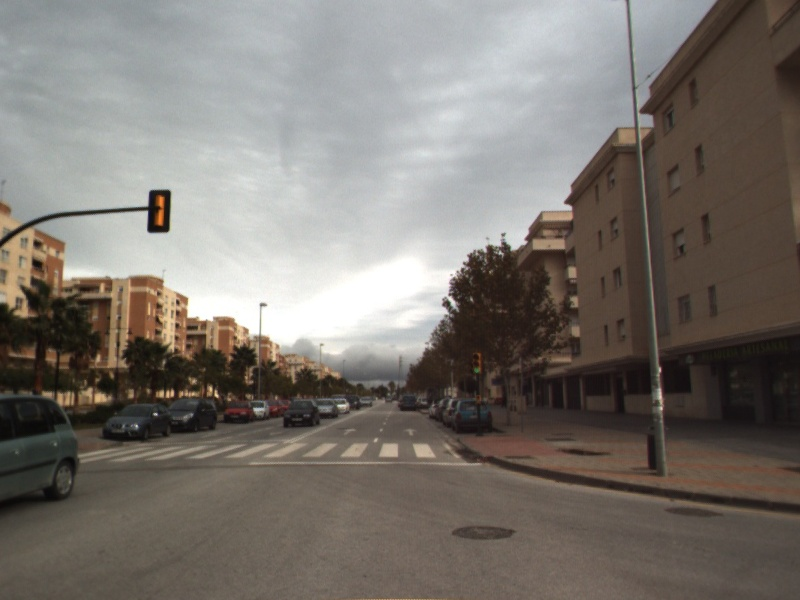STRAIGHT: (341, 426, 358, 437), (402, 427, 419, 437)
